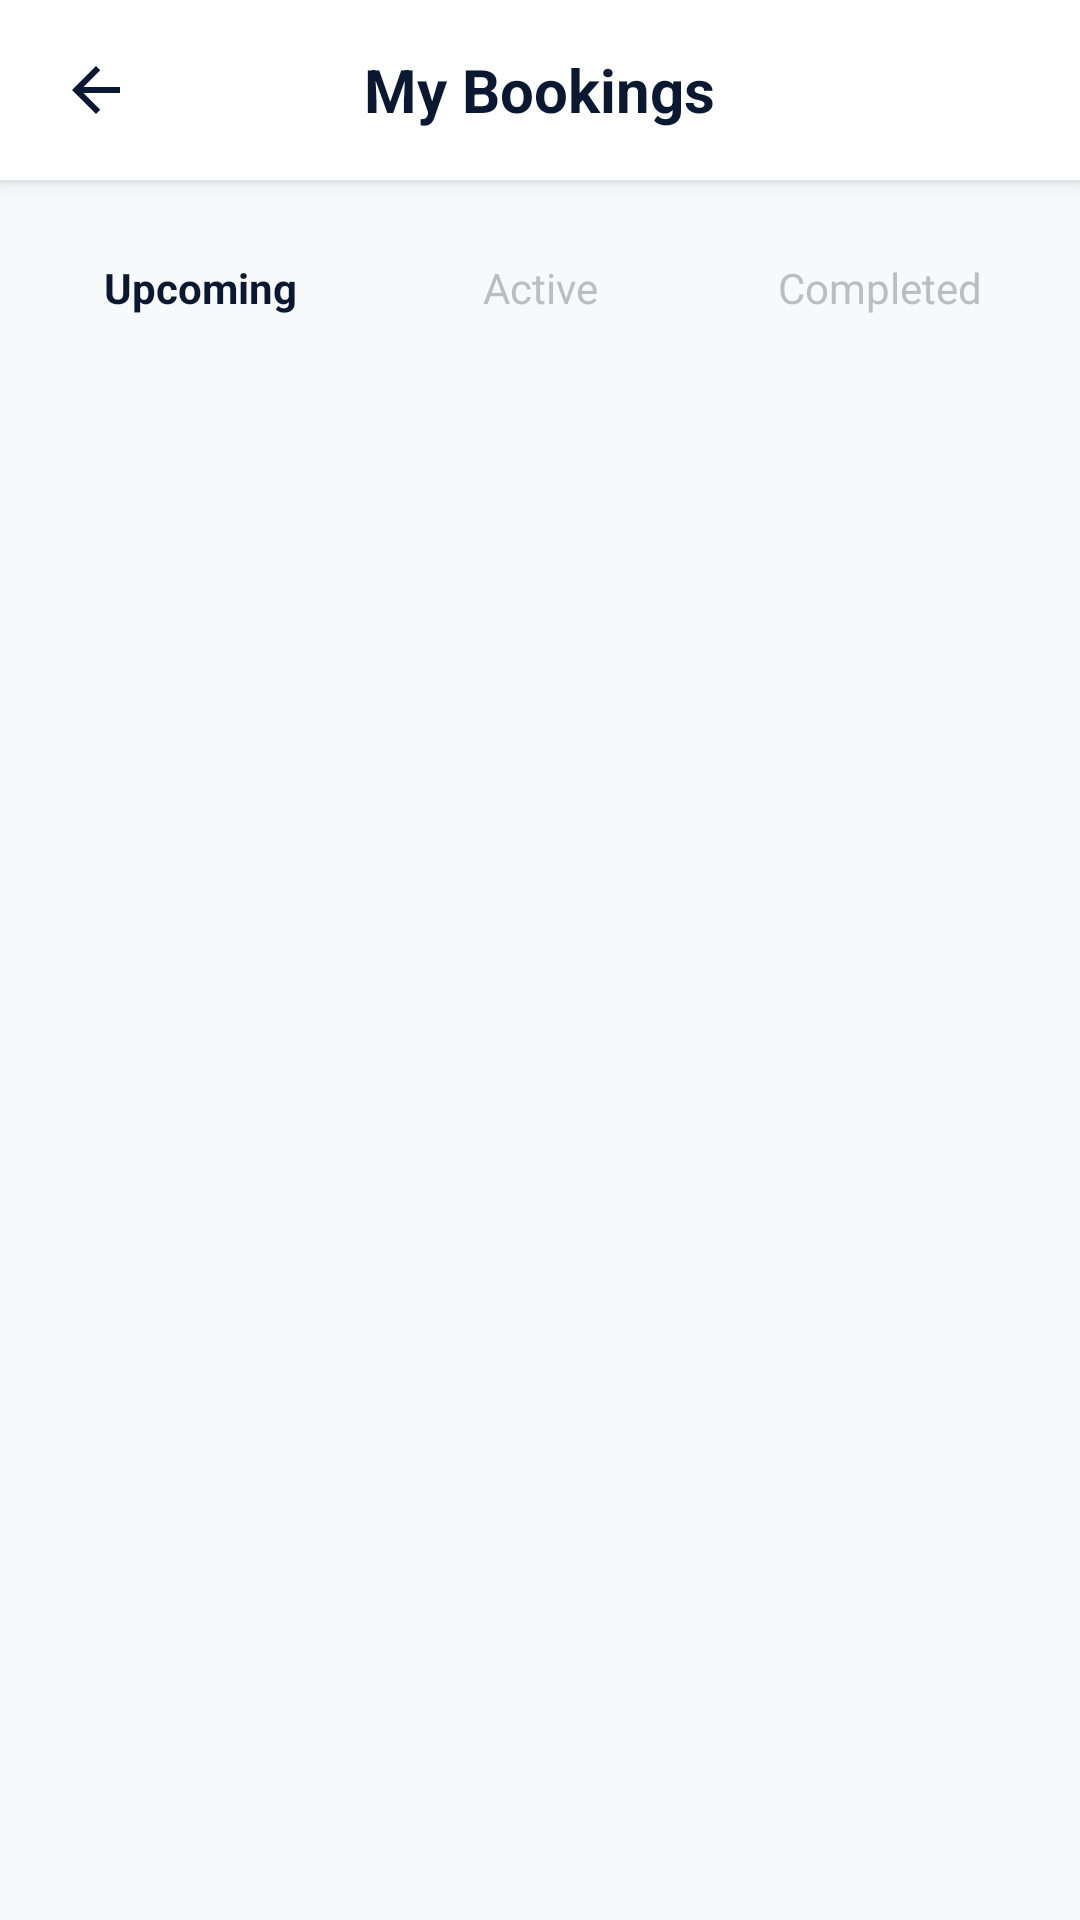

Screen size 1080w x 1920h. Icon name, then its box in pixels as bbox(x1, y1, x2, y2):
Back: bbox(72, 66, 120, 114)
